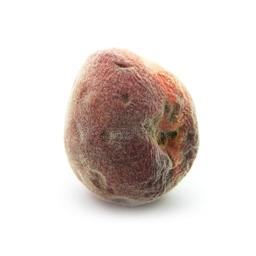Peach Rotten: (53, 45, 201, 207)
